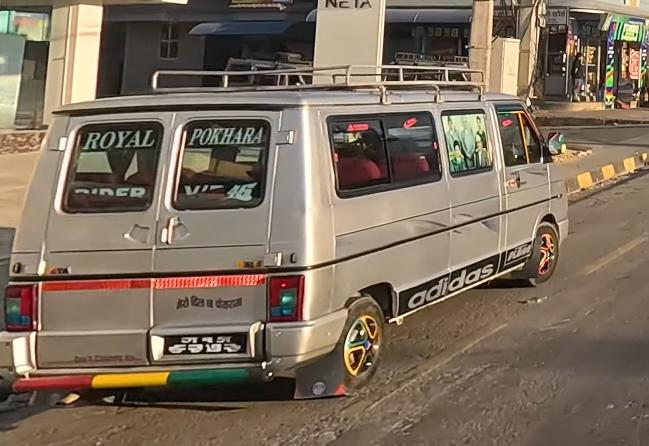micro_bus: (4, 59, 571, 401)
